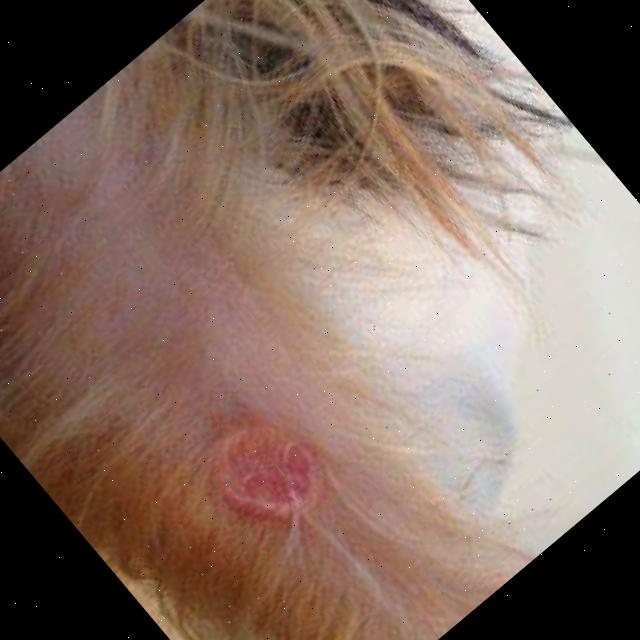cat-ringworm: (155, 357, 396, 600)
